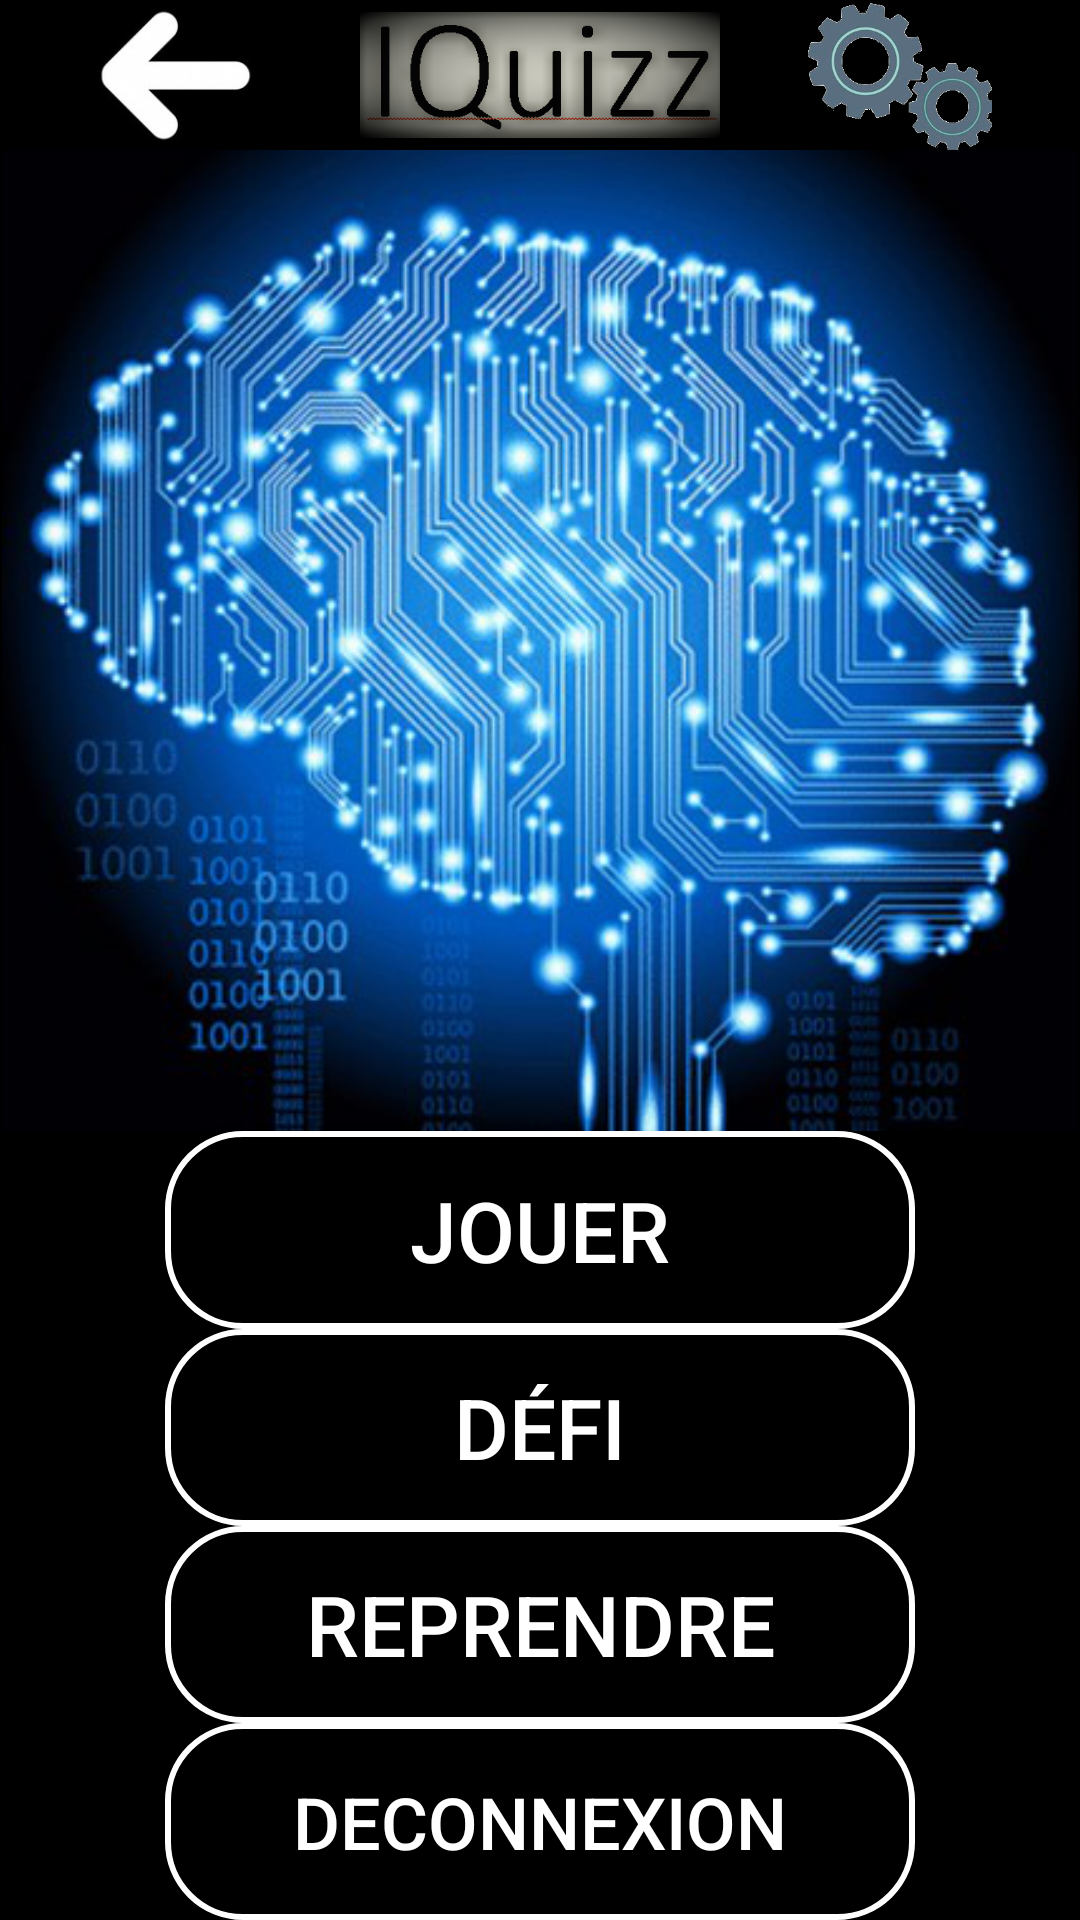

Screen size 1080px×1920px. Icon name, then its box in pixels as (x1, y1, x2, y2):
engrenages: (808, 3, 992, 150)
Fleche de retour arrière, non cliquable: (101, 11, 251, 140)
